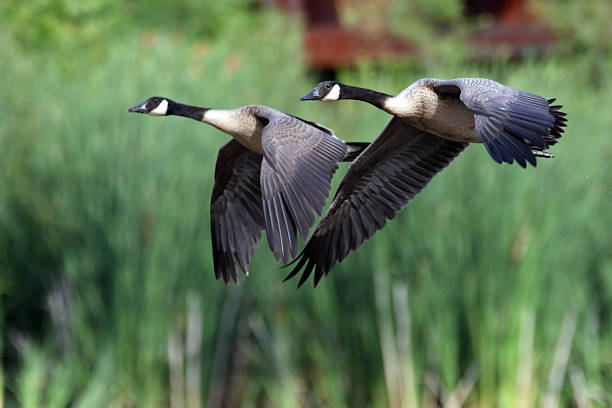goose: (298, 76, 571, 281), (123, 93, 383, 288)
